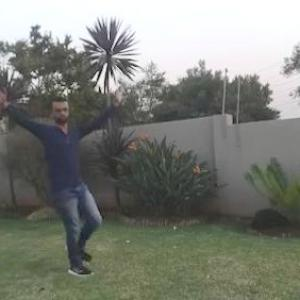takeoff: (1, 82, 130, 284)
